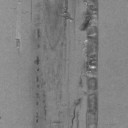slag inclusion: (71, 0, 100, 128), (29, 0, 76, 71), (34, 55, 48, 123), (16, 38, 20, 46), (53, 122, 62, 125)
